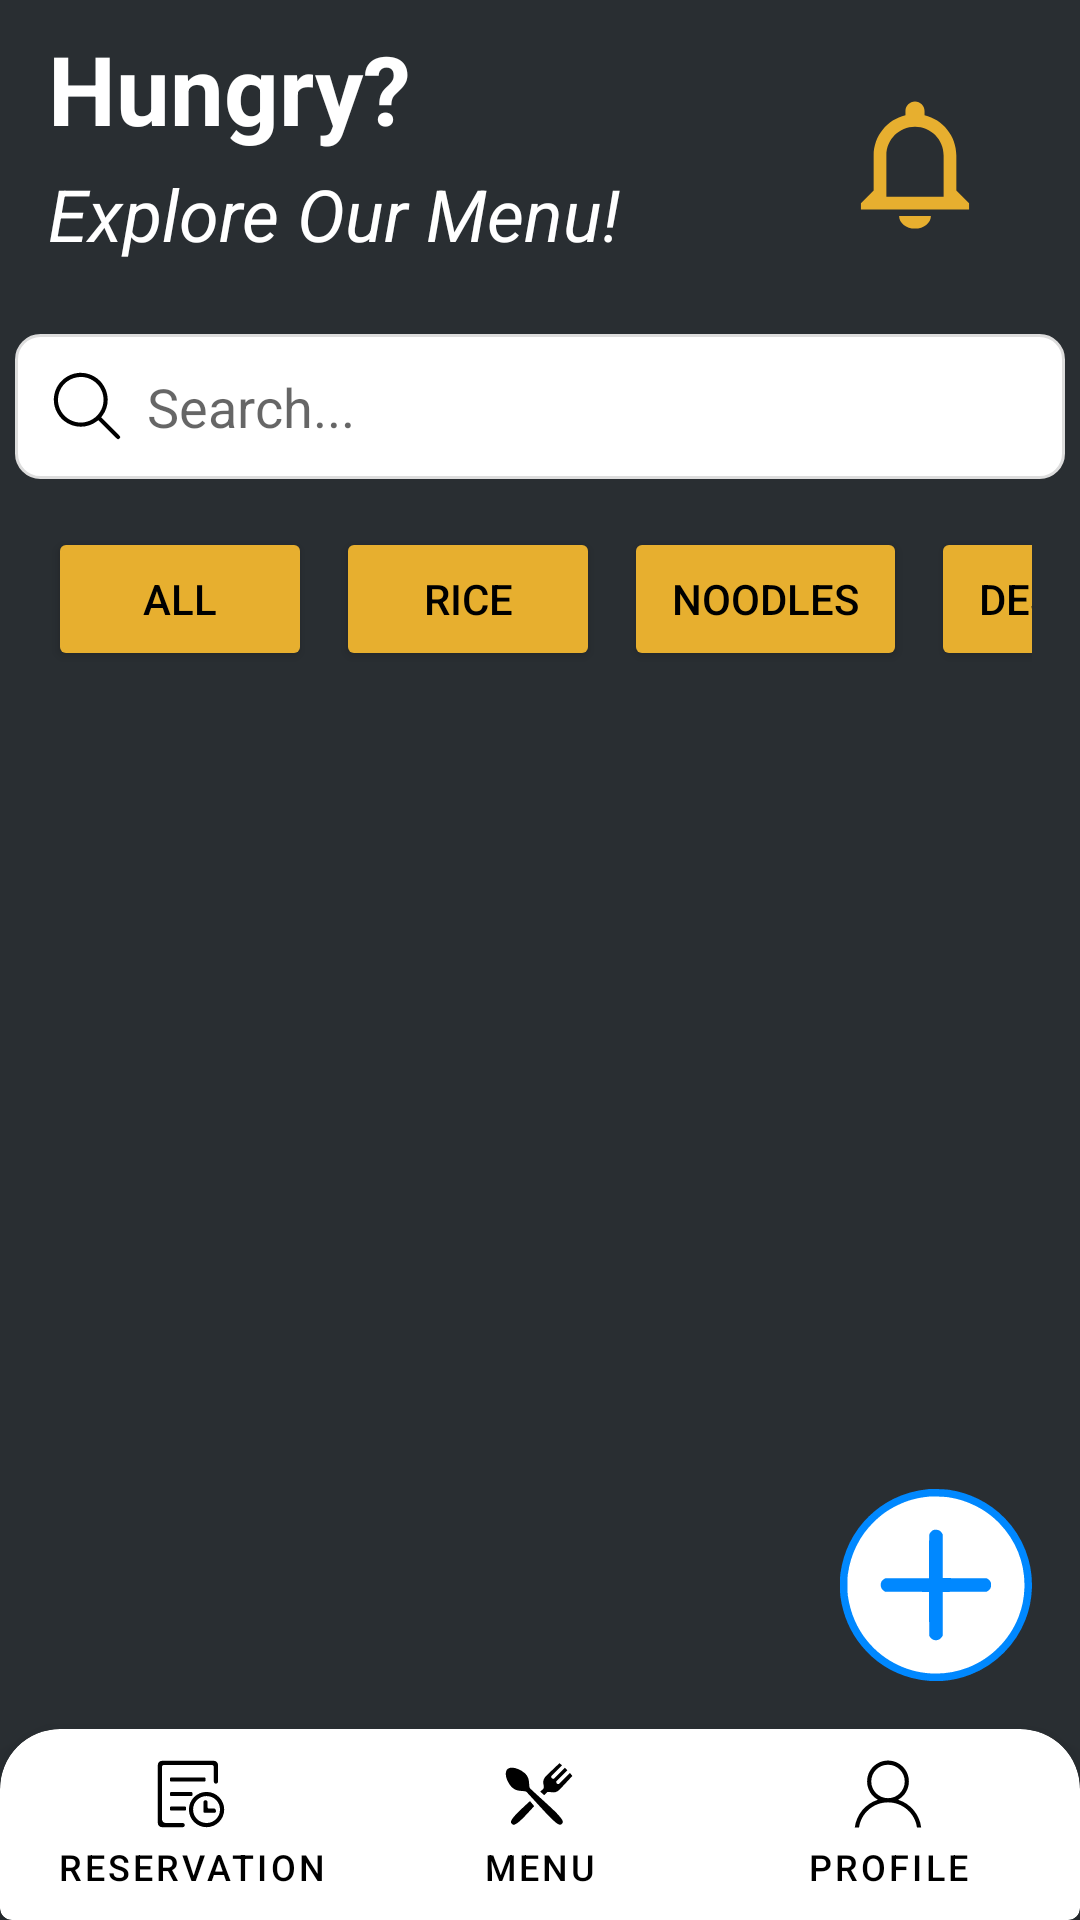

Where icons sit on this 1080w x 1920h app screen, as (x1, y1, x2, y2):
Add button: (840, 1489, 1032, 1681)
